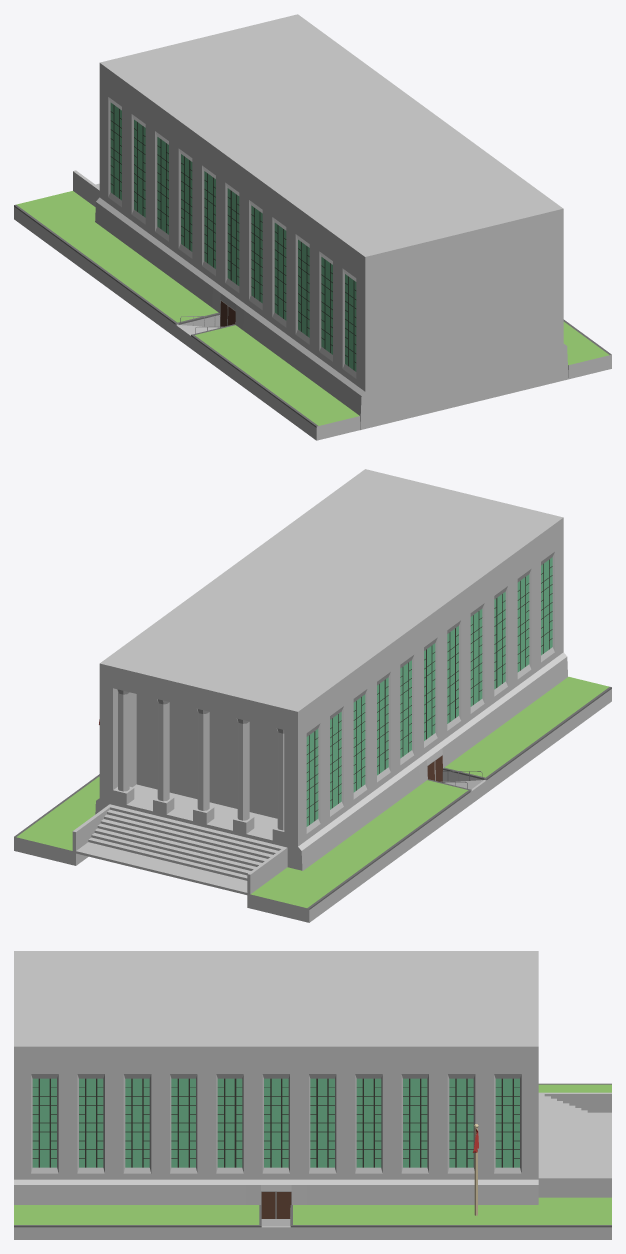
Rendered from brooklyn library.fbx.
3 views of the same model, one above another, from view 1: azimuth 30°, elevation 25°; view 2: azimuth 150°, elevation 25°; view 3: azimuth 270°, elevation 25° (orthographic).
Visible parts, largest first — view 1: Cube.002; view 2: Cube.002; view 3: Cube.002.
Part boxes in pixels (x1,y1,x2,y2): Cube.002: (14,14,611,440); Cube.002: (14,469,611,922); Cube.002: (14,951,611,1239).
Size of the model in its own units: 4365 by 2457 by 7750.
